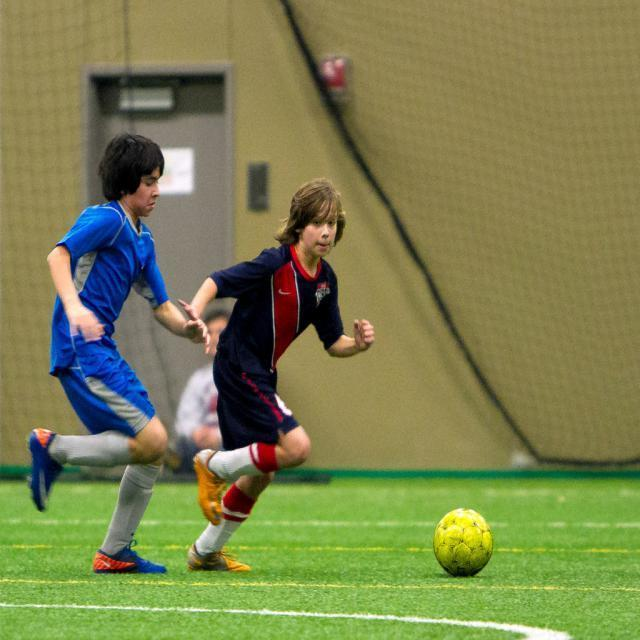ball: (434, 507, 494, 577)
